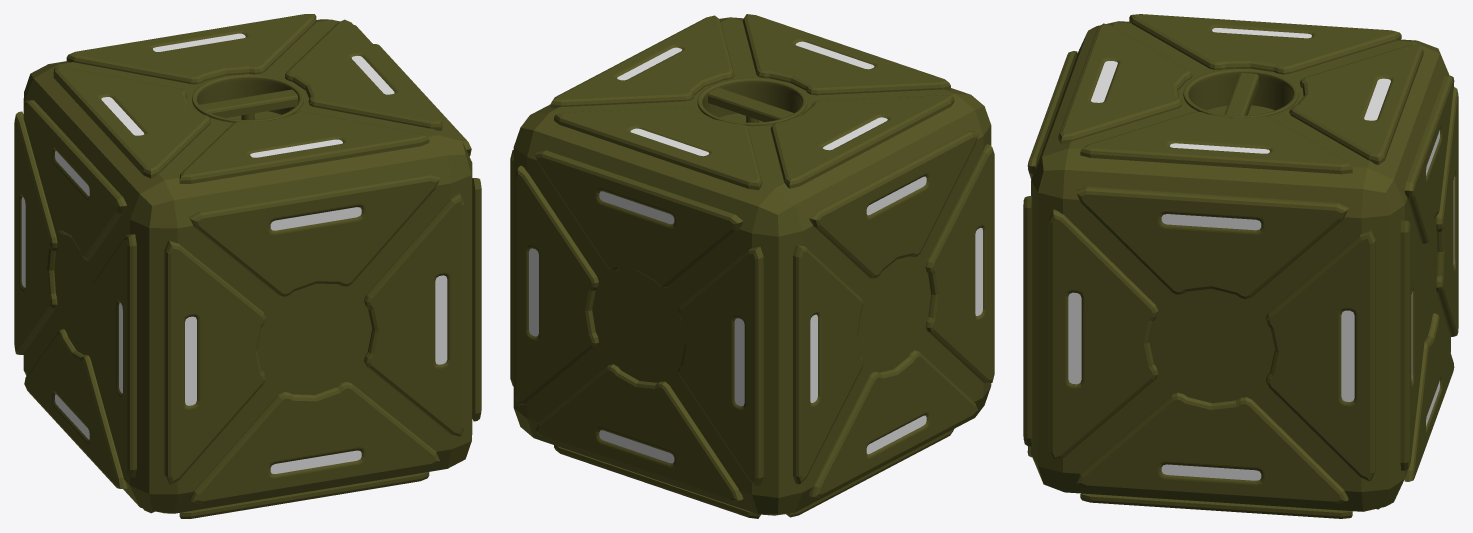
The model's file is Crate.fbx.
The picture shows the model from 3 angles, left to right: view 1: azimuth 30°, elevation 25°; view 2: azimuth 150°, elevation 25°; view 3: azimuth 270°, elevation 25°; orthographic projection. The views are drawn at different scales.
Visible parts, largest first — view 1: Crate Short.002; view 2: Crate Short.002; view 3: Crate Short.002.
Boxes of the visible parts, x1=… form: Crate Short.002: x1=14, y1=14, x2=481, y2=518; Crate Short.002: x1=510, y1=14, x2=994, y2=518; Crate Short.002: x1=1023, y1=14, x2=1458, y2=518.
Bounding box in the file's own units: 230 × 207 × 230.
